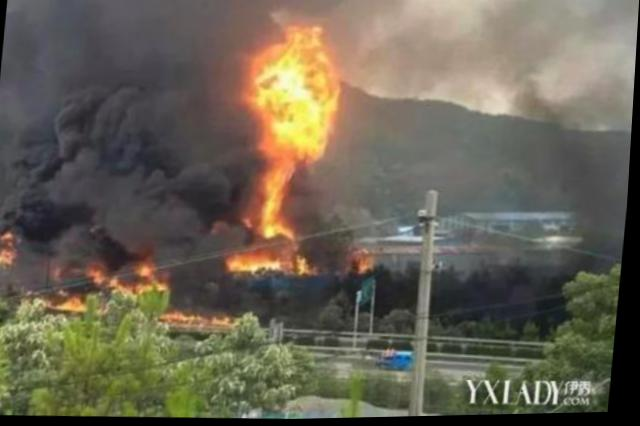fire: (248, 26, 340, 160), (258, 159, 290, 238), (225, 244, 309, 273), (162, 309, 238, 325), (113, 273, 168, 291), (0, 226, 20, 266), (50, 293, 89, 309), (354, 248, 371, 271), (93, 264, 110, 282), (140, 256, 155, 273)
